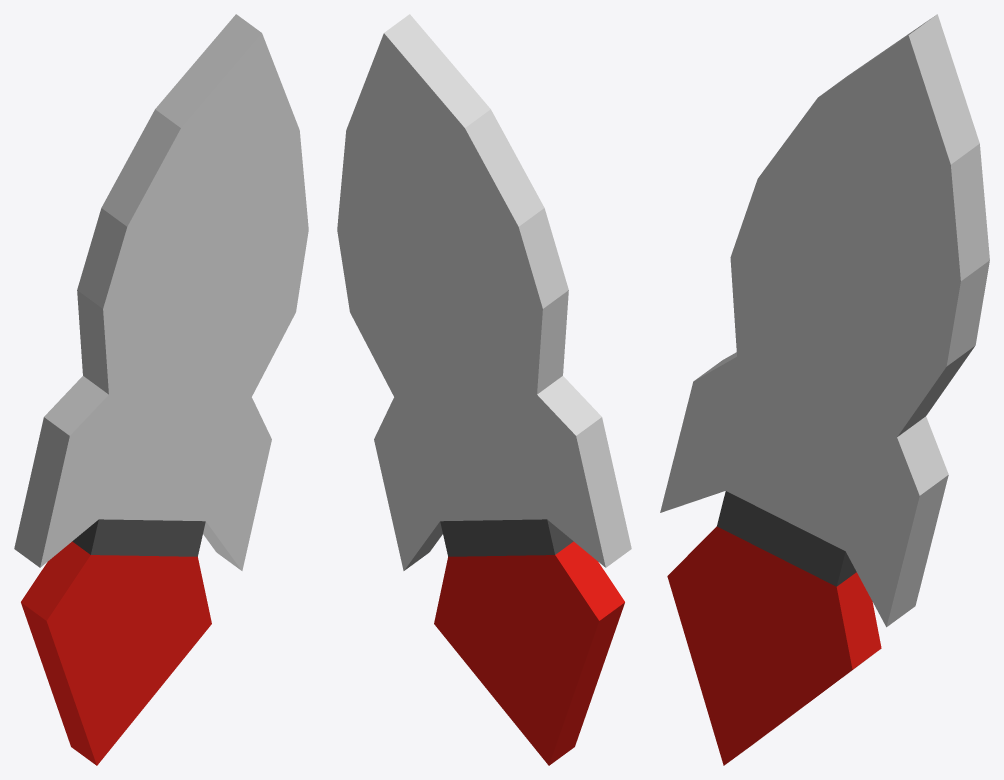
Rendered from Rocket.fbx.
The picture shows the model from 3 angles, left to right: view 1: azimuth 30°, elevation 25°; view 2: azimuth 150°, elevation 25°; view 3: azimuth 330°, elevation 25°; orthographic projection. The views are drawn at different scales.
Parts seen in each view (by area): view 1: RocketIcon; view 2: RocketIcon; view 3: RocketIcon.
Boxes of the visible parts, box(x1,y1,x2,y2) form: RocketIcon: box(14, 14, 308, 765); RocketIcon: box(337, 14, 631, 765); RocketIcon: box(660, 14, 989, 765).
Size of the model in its own units: 23.94 by 58.97 by 4.
